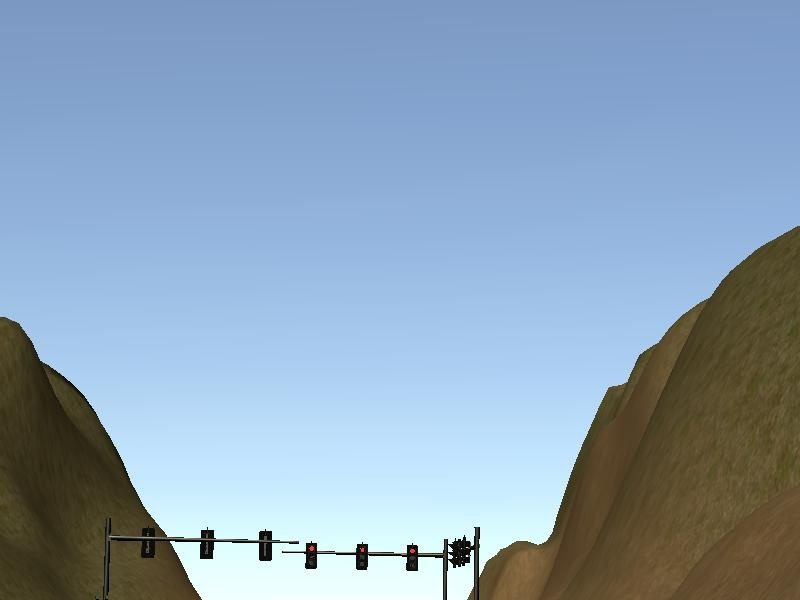traffic_light_red: (289, 542, 444, 571)
